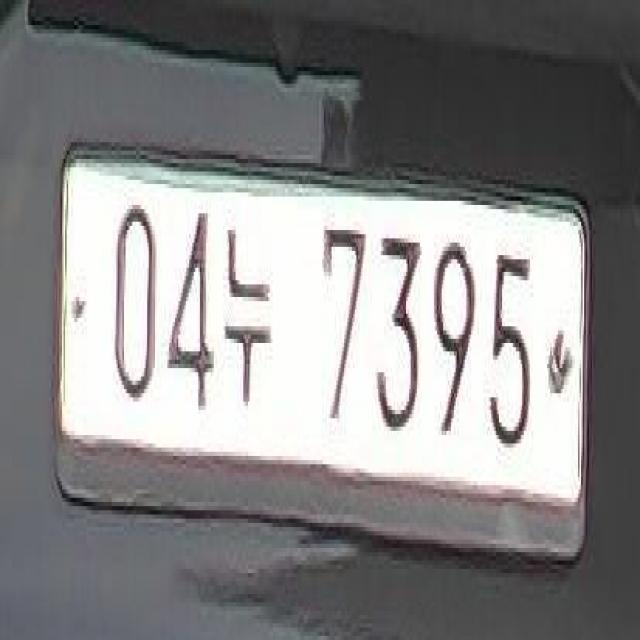illegal_plate: (64, 149, 596, 568)
